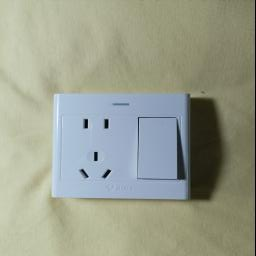outlet: (39, 97, 201, 200)
